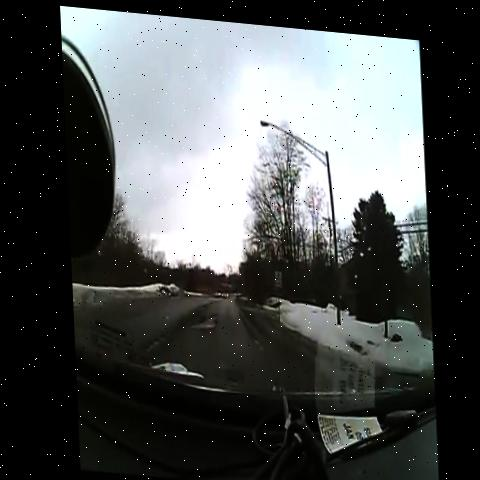pothole: (232, 305, 265, 355), (181, 300, 220, 335), (134, 320, 172, 355), (218, 355, 241, 386)
